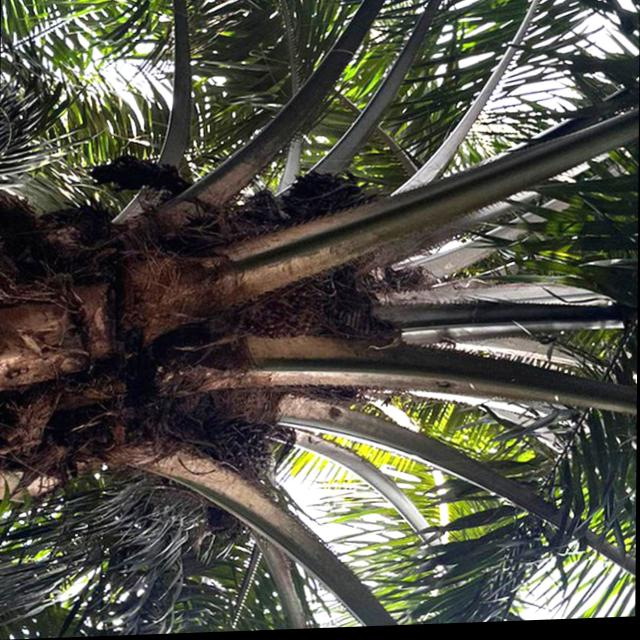ripe: (233, 267, 351, 358)
